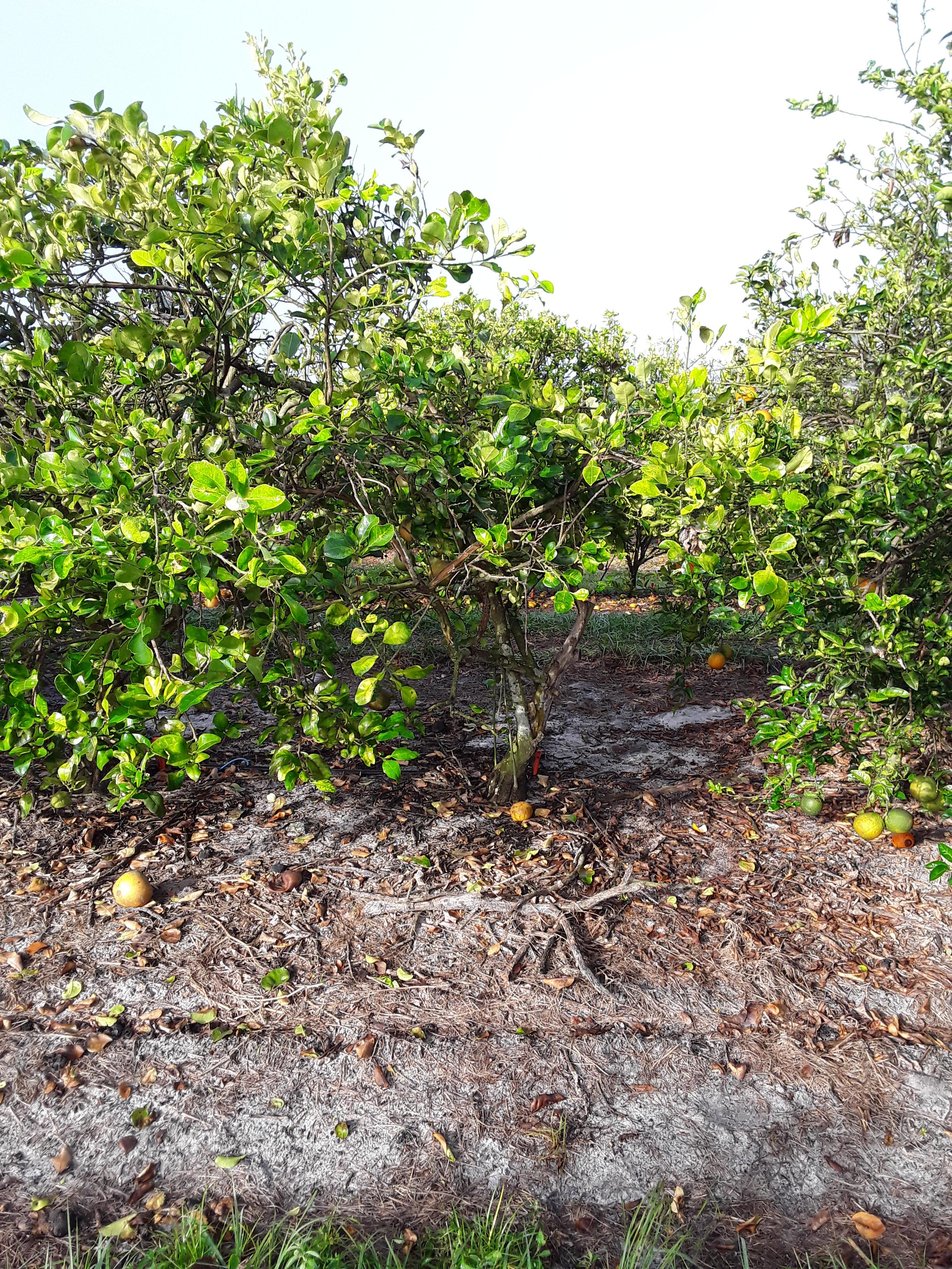fruit_on_ground: (906, 771, 942, 806), (360, 680, 394, 712), (917, 785, 951, 816), (852, 810, 886, 841), (847, 571, 881, 601), (882, 805, 916, 835), (425, 558, 459, 587), (397, 516, 424, 544), (797, 791, 825, 818), (393, 471, 419, 496), (734, 382, 760, 406), (392, 549, 416, 572), (707, 651, 727, 671), (752, 407, 773, 425), (714, 643, 735, 661), (596, 563, 605, 571)
fruit_on_tree: (110, 869, 154, 911), (506, 797, 537, 826), (272, 866, 303, 893), (889, 829, 916, 851), (202, 593, 221, 609), (629, 602, 638, 609), (528, 602, 535, 609), (593, 605, 601, 611)
